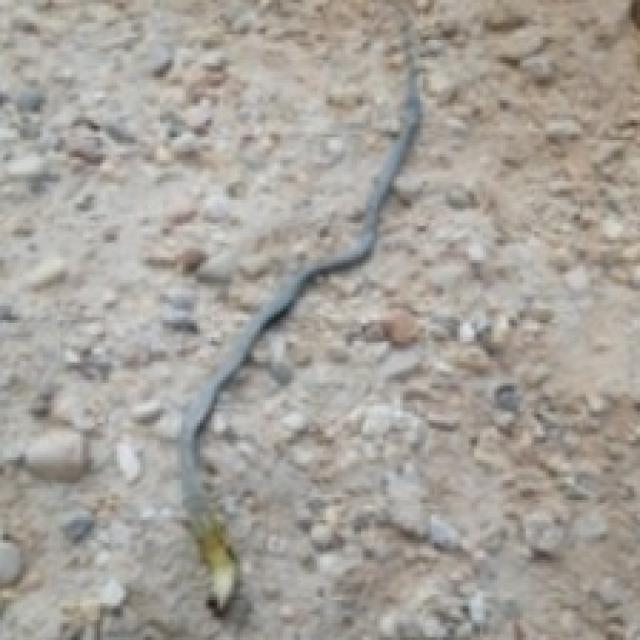king cobra: (180, 26, 420, 614)
